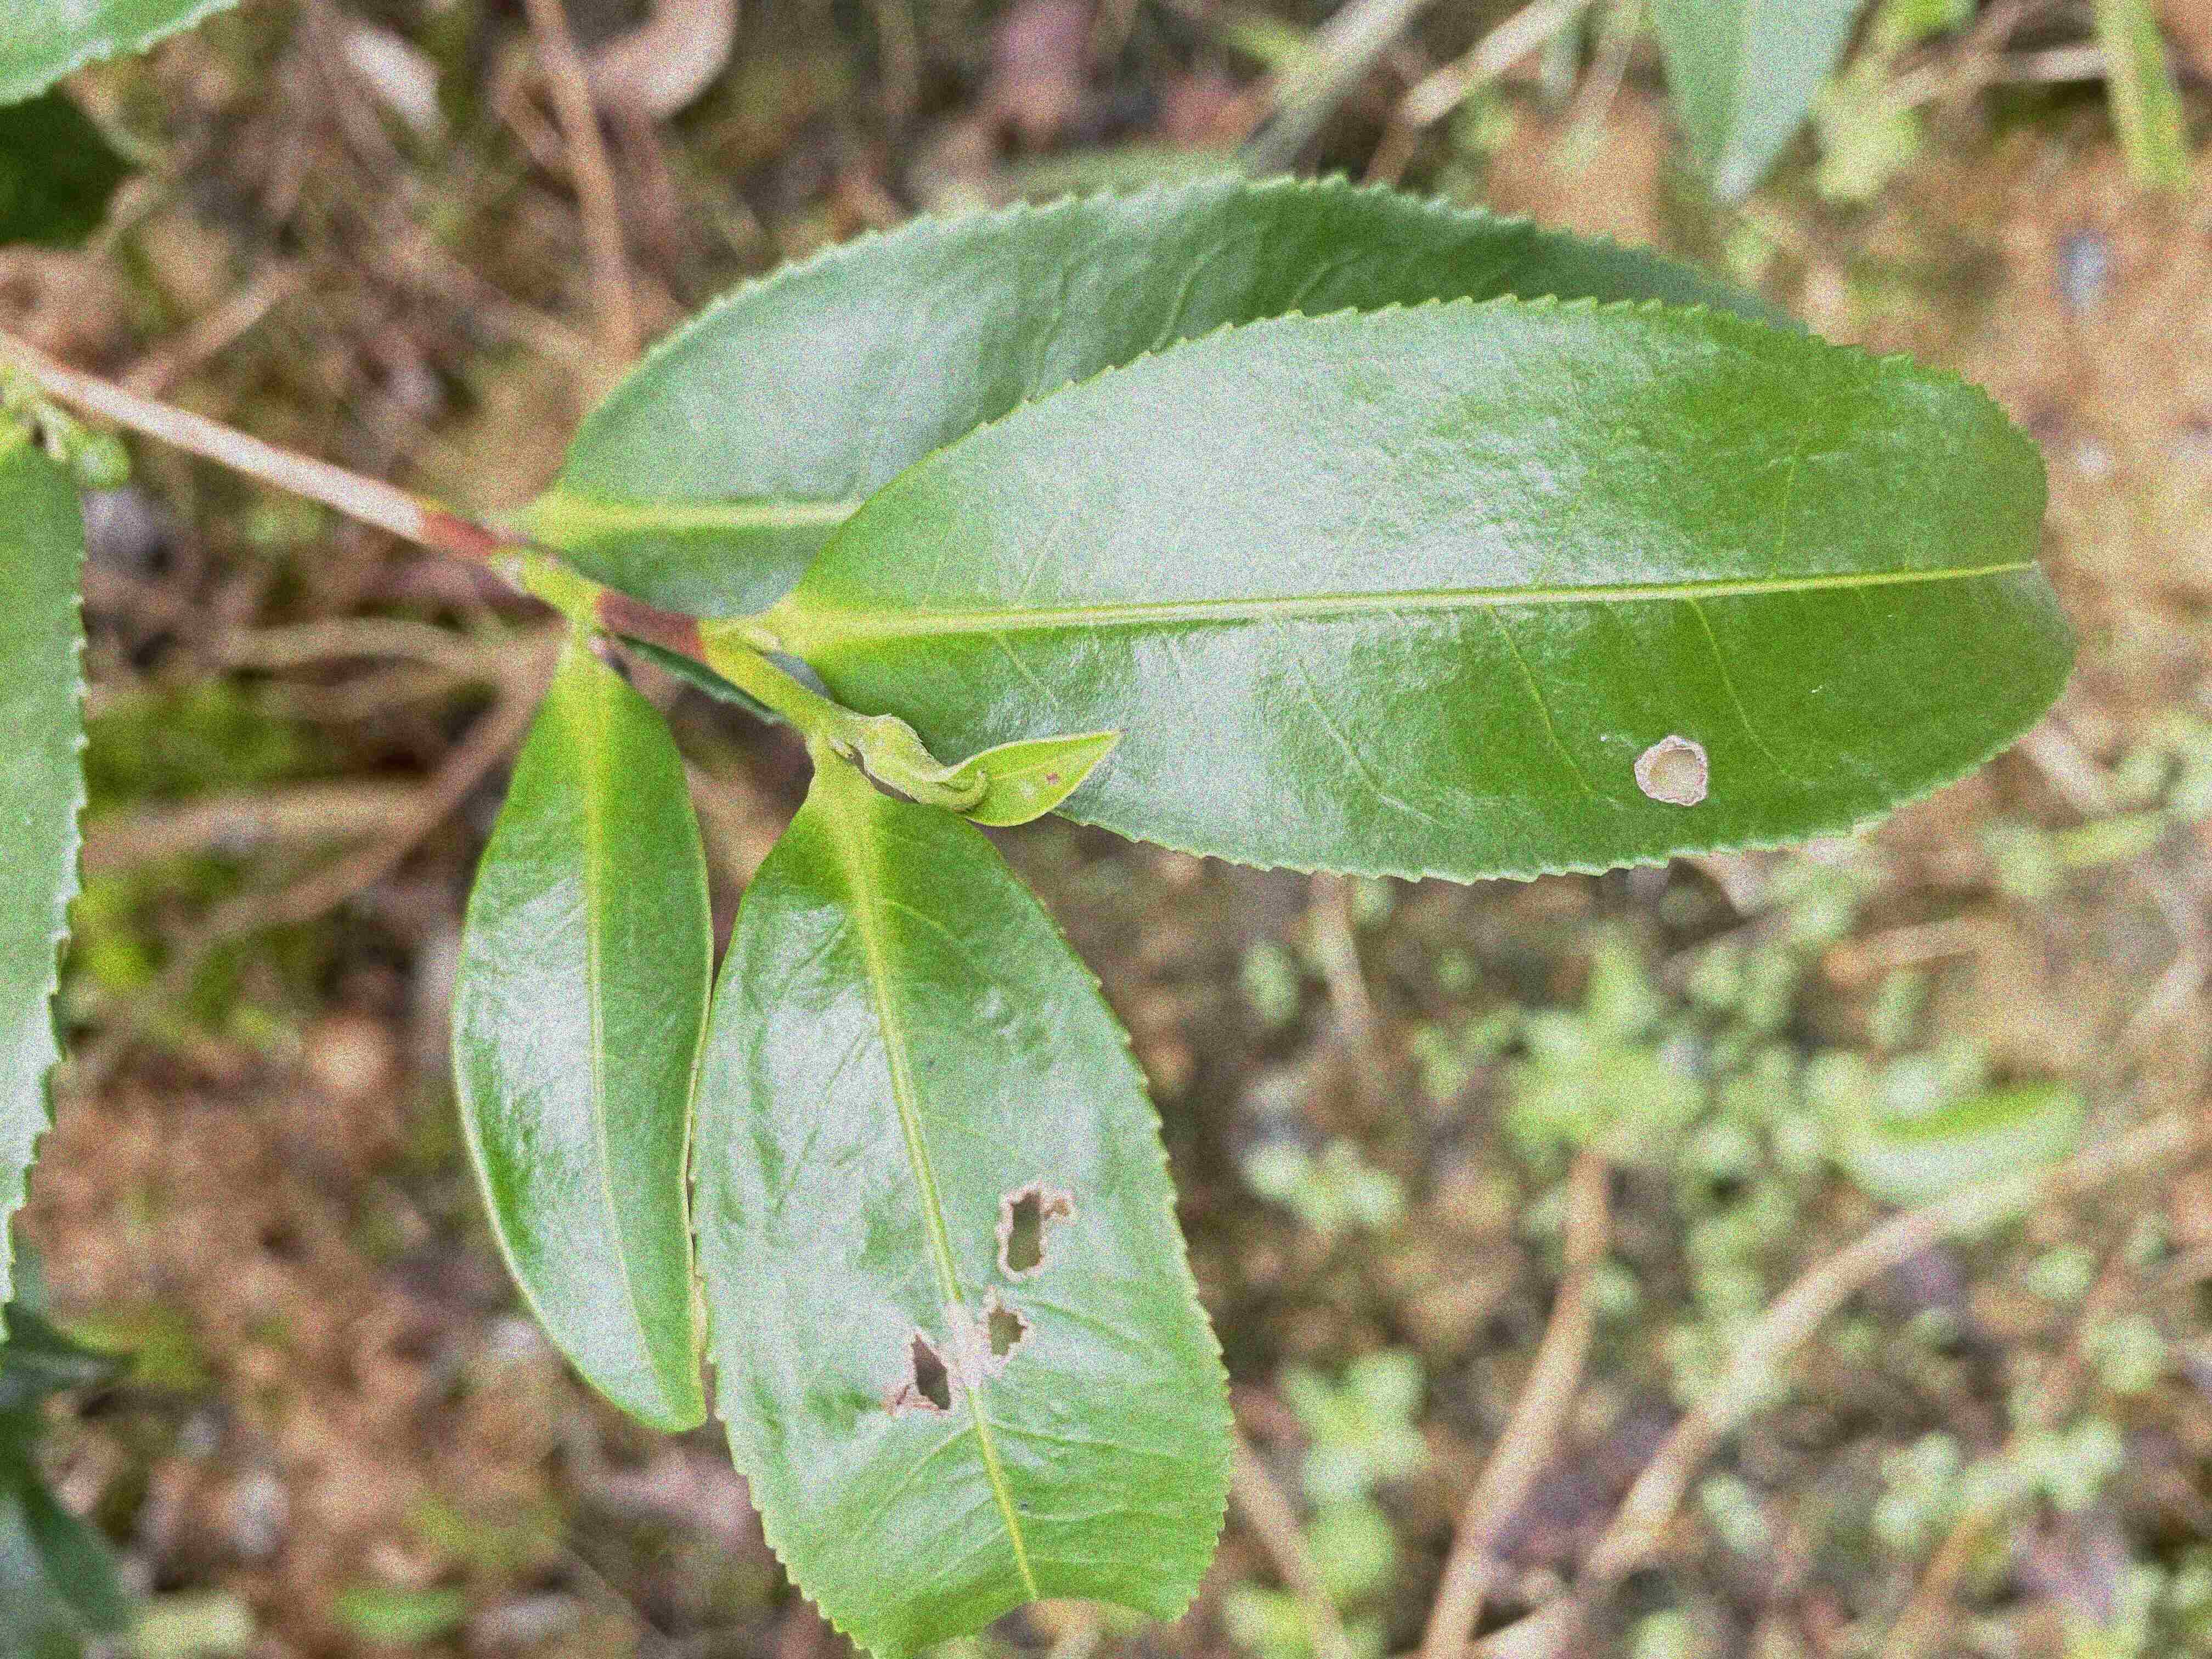chihuo_high: (693, 755, 1237, 1657)
chihuo_low: (779, 291, 2081, 885)
healthy: (449, 653, 714, 1432)
